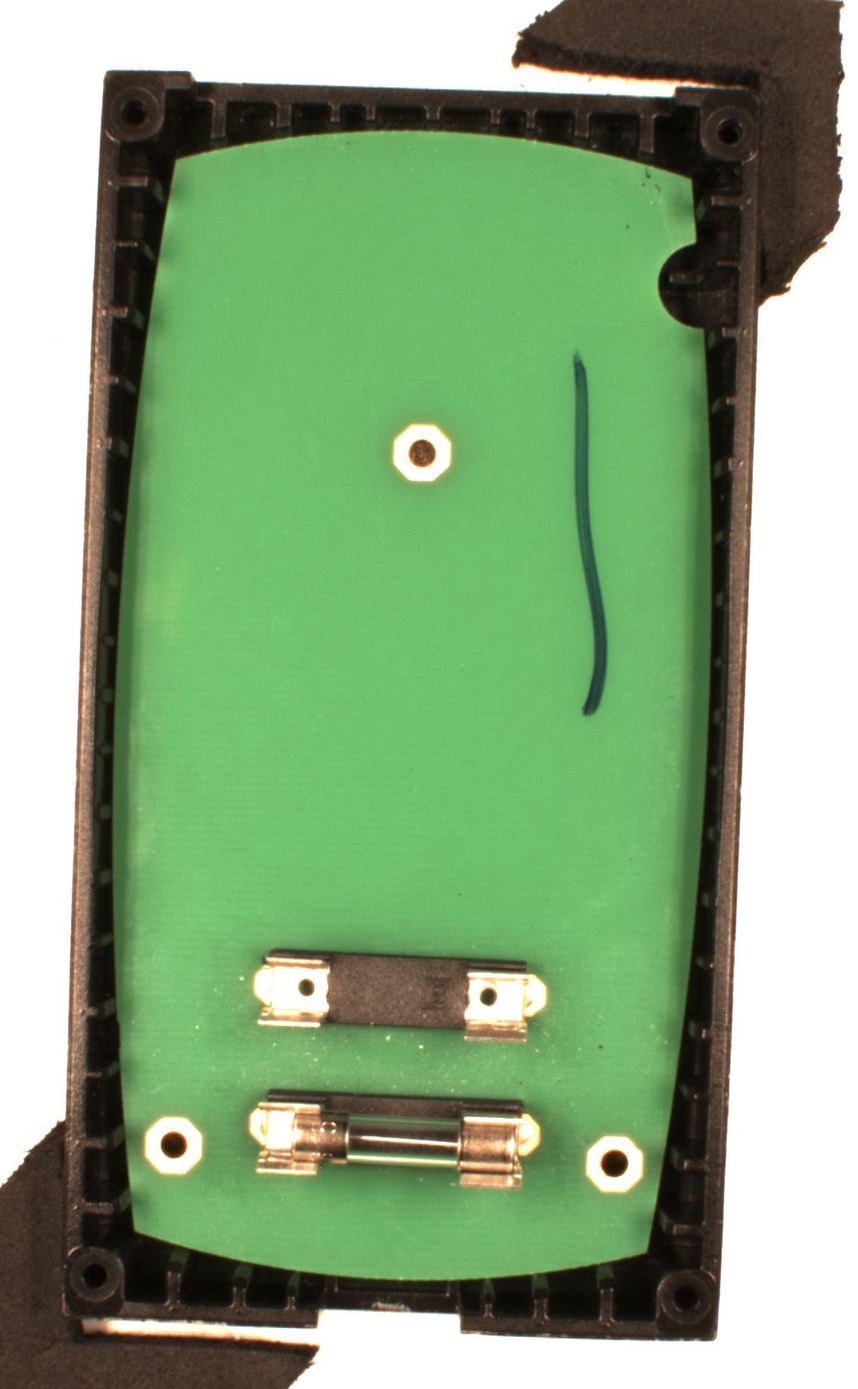Linijsko Ostecene: (571, 351, 609, 718)
Nepostojanje osiguraca: (253, 948, 548, 1045)
